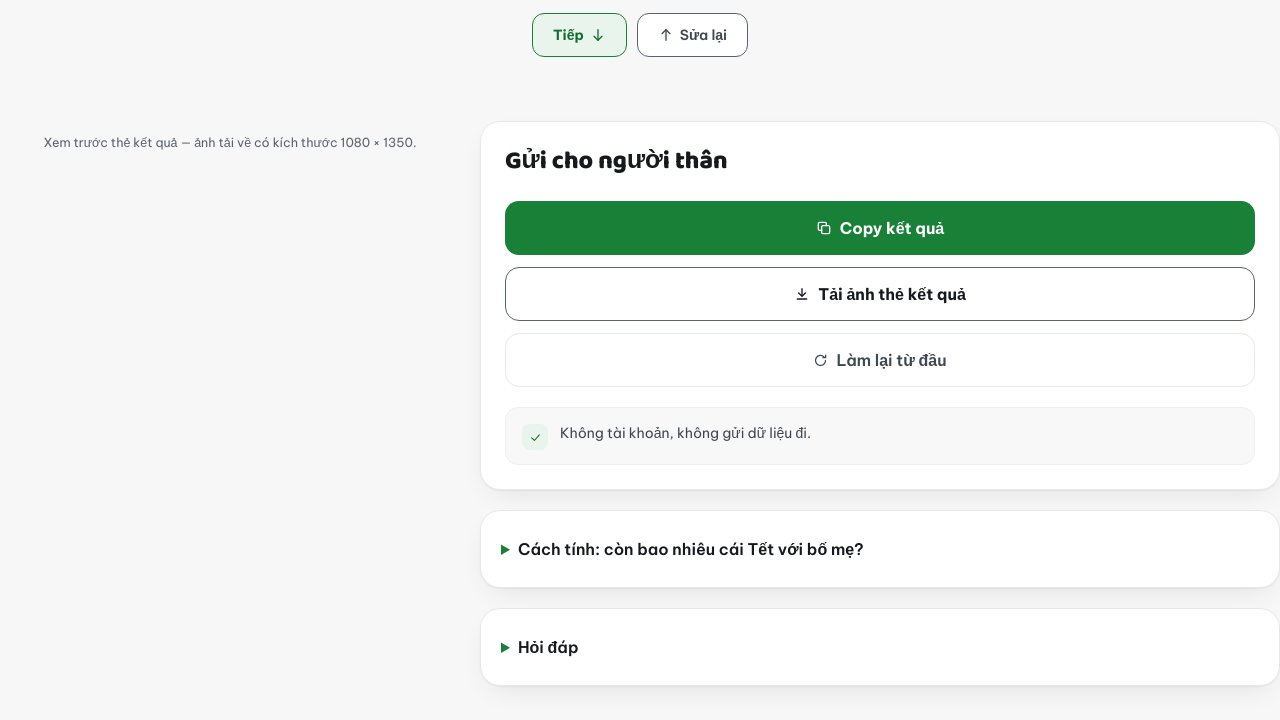
Test: TC-1 — hoàn tác 8 giây sau xoá › «Đã xoá — [Hoàn tác]» xuất hiện ngay sau Xoá, có role=status, focus vào Hoàn tác
(page scrolled)
Click the button "Làm lại từ đầu" at (880, 360), box [505,333,1255,387]
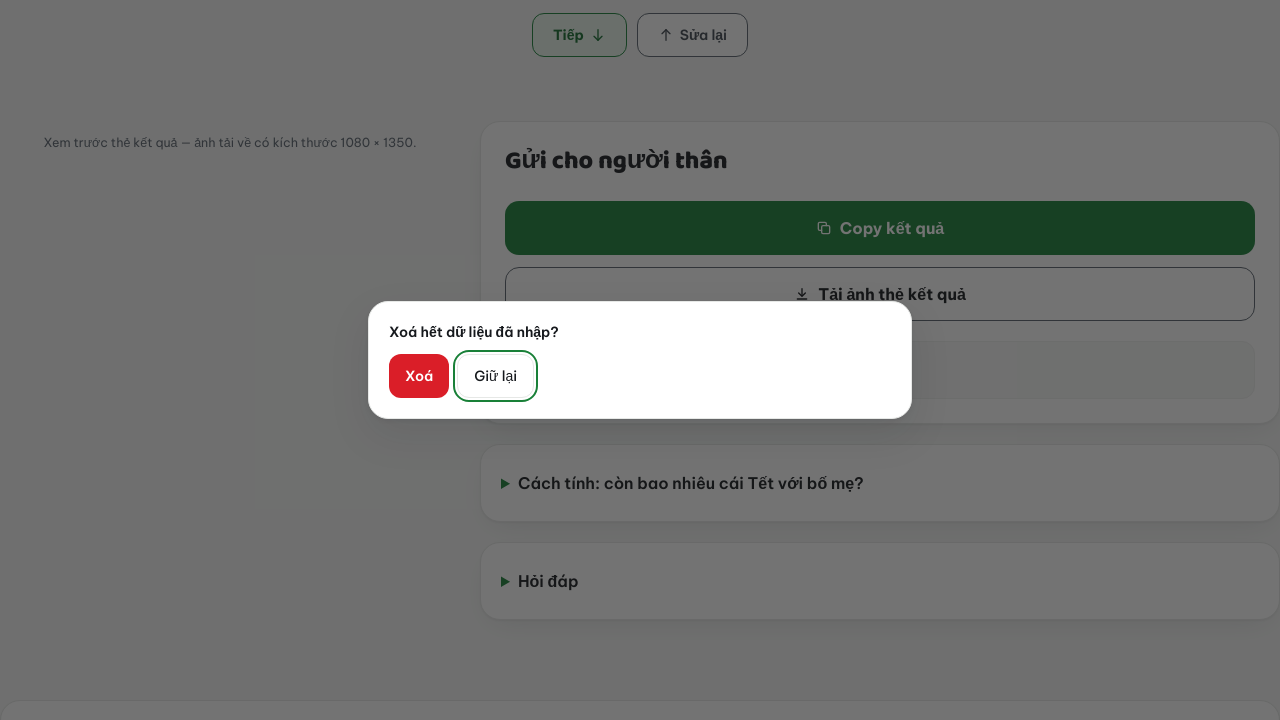
Click the button "Xoá" at (419, 376), box [389,354,449,398]
(page scrolled)
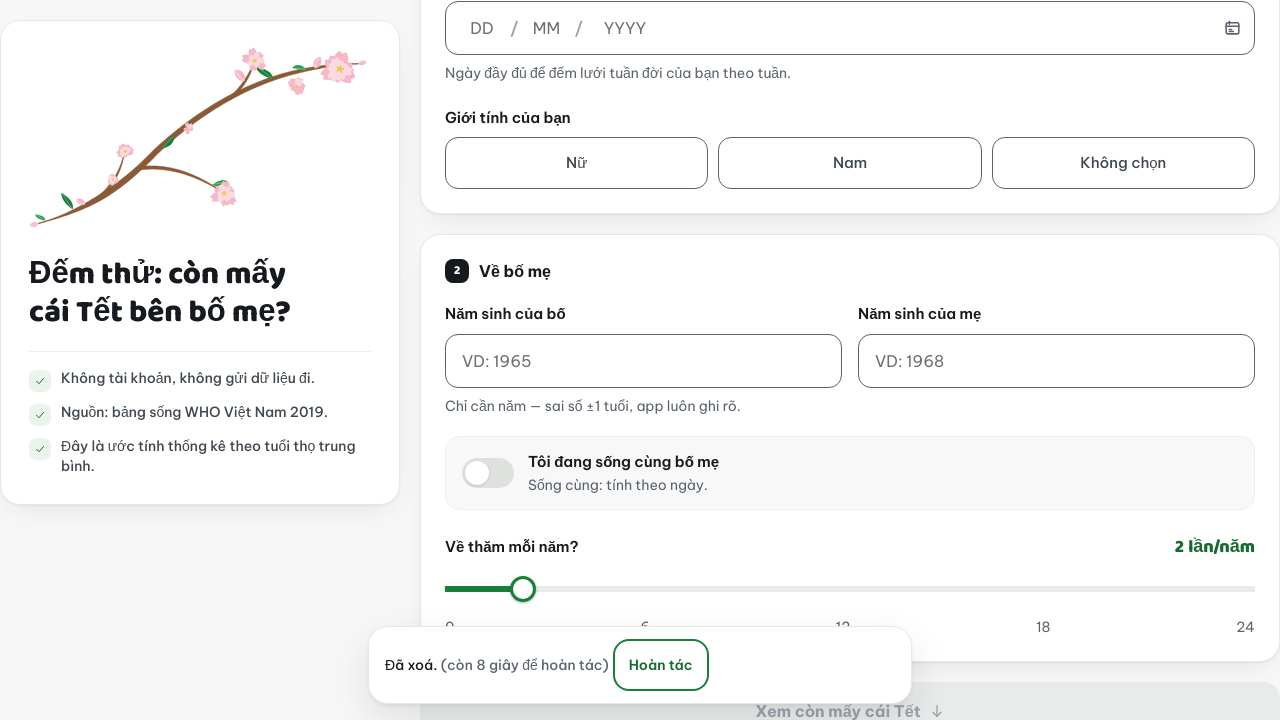
Result: the button "Hoàn tác" is shown at [617,643,705,687]
Result: the message "Đã xoá. (còn 8 giây để hoàn tác)" is shown at [385,655,609,675]
Result: the field with id "birth-day" is empty at [458,6,506,50]
